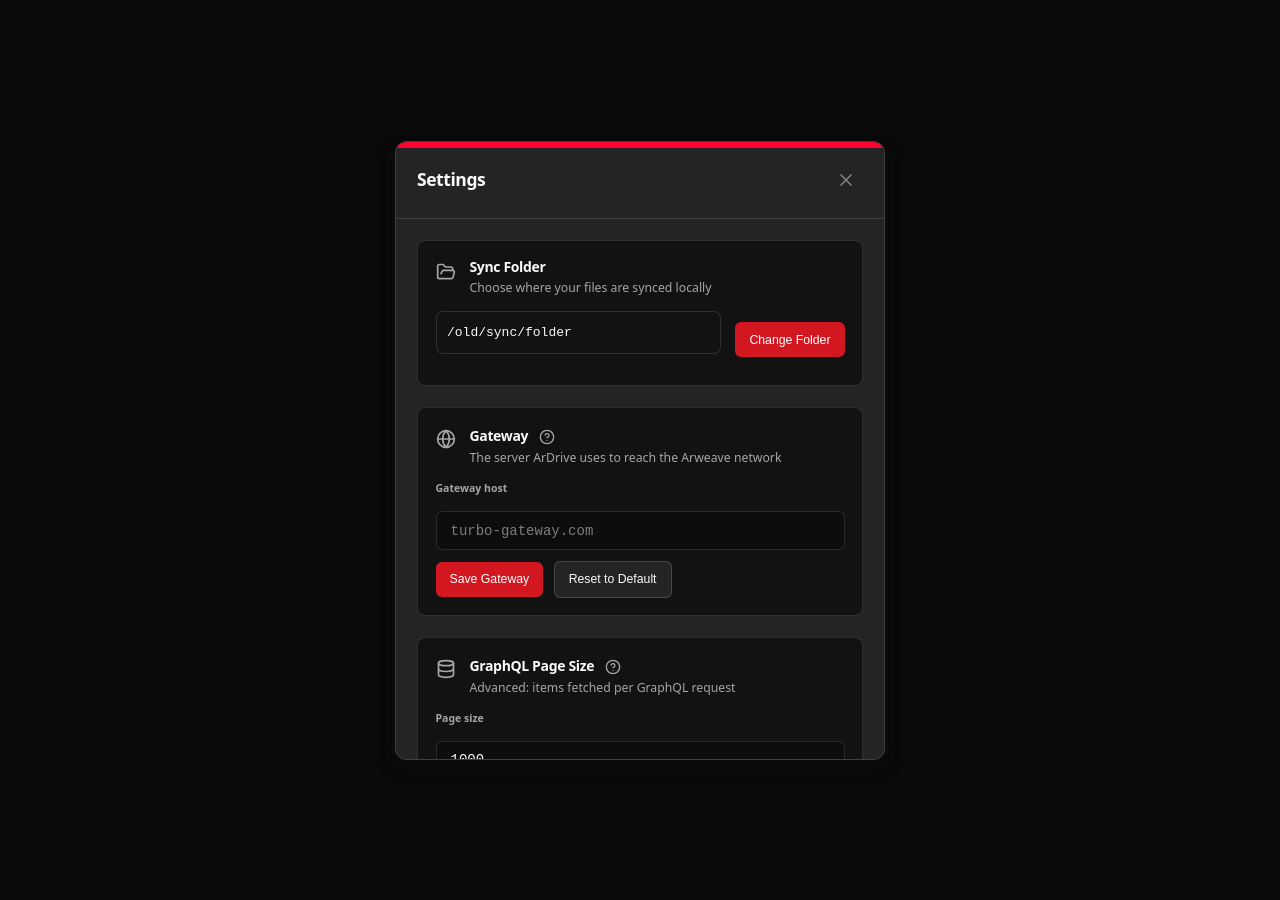
Test: Settings — Change Folder (UX-2) › persists the selected folder and re-targets sync
Check: the text "/old/sync/folder" is shown, box [436, 311, 722, 354]
What coordinates should you click on to do the following:
click the button "Change Folder"
I would click on:
 (790, 340)
Its box is [736, 322, 844, 357].
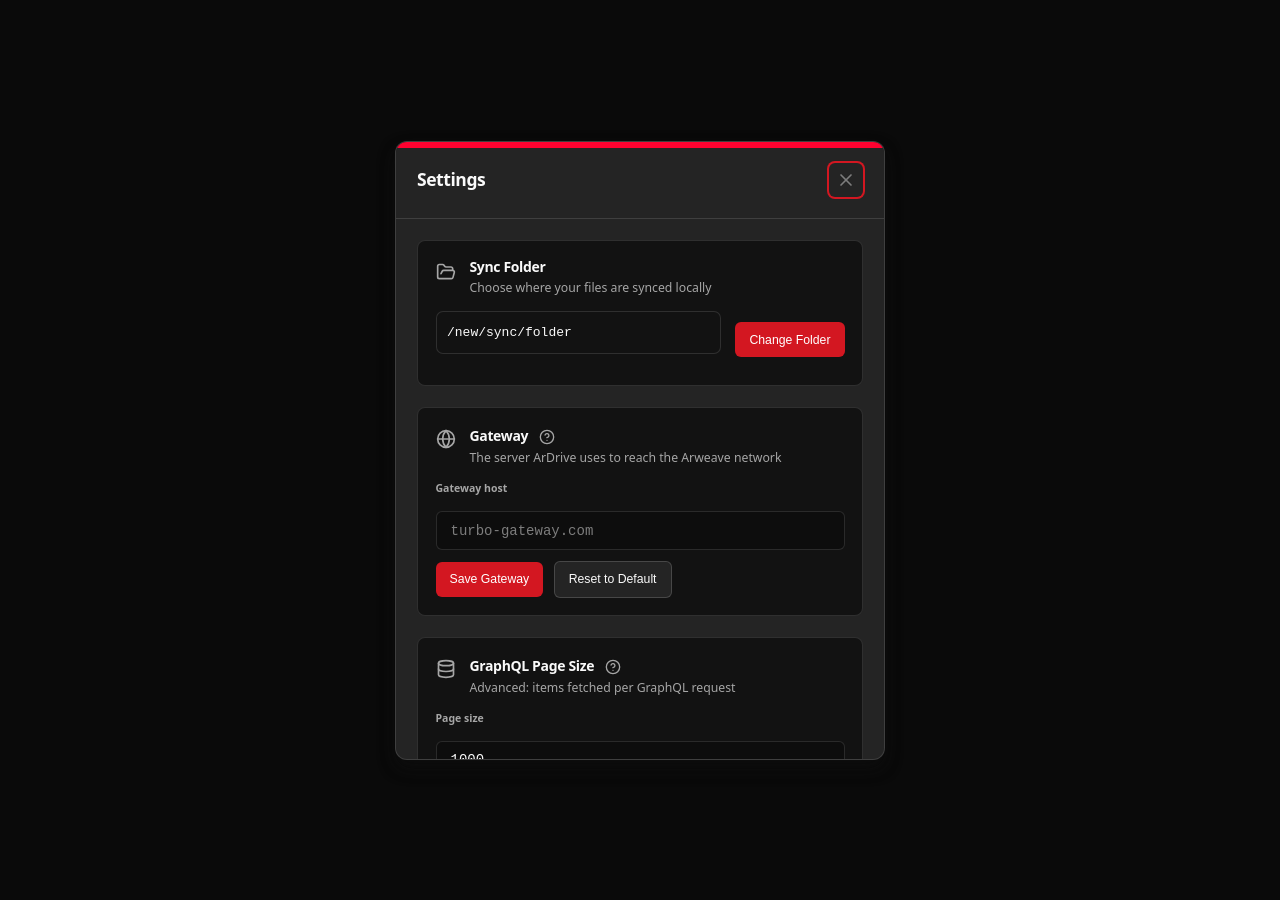
Check: the text "/new/sync/folder" is shown, box [436, 311, 722, 354]
Check: the text "/old/sync/folder" is gone
